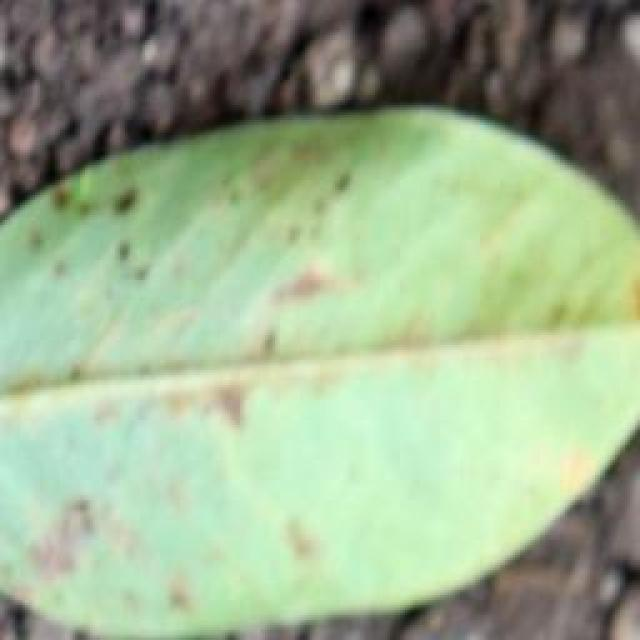Whitefly: (0, 137, 616, 586)
